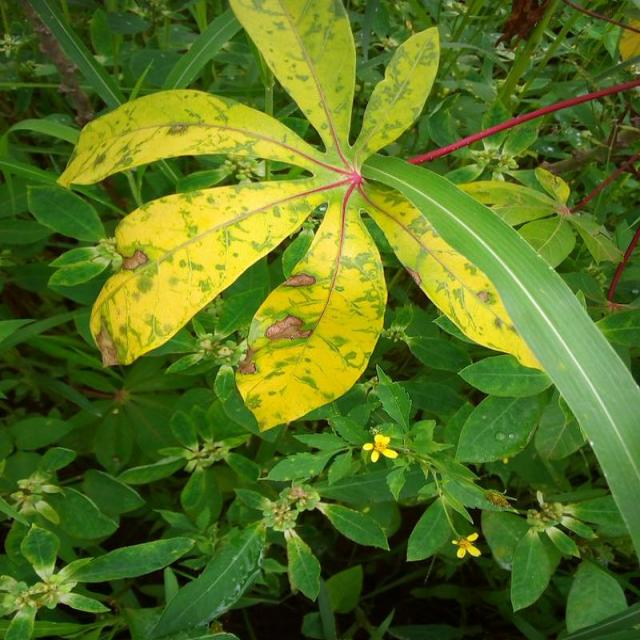cassava leaf: (52, 0, 637, 565), (357, 151, 638, 562), (233, 195, 387, 433)
